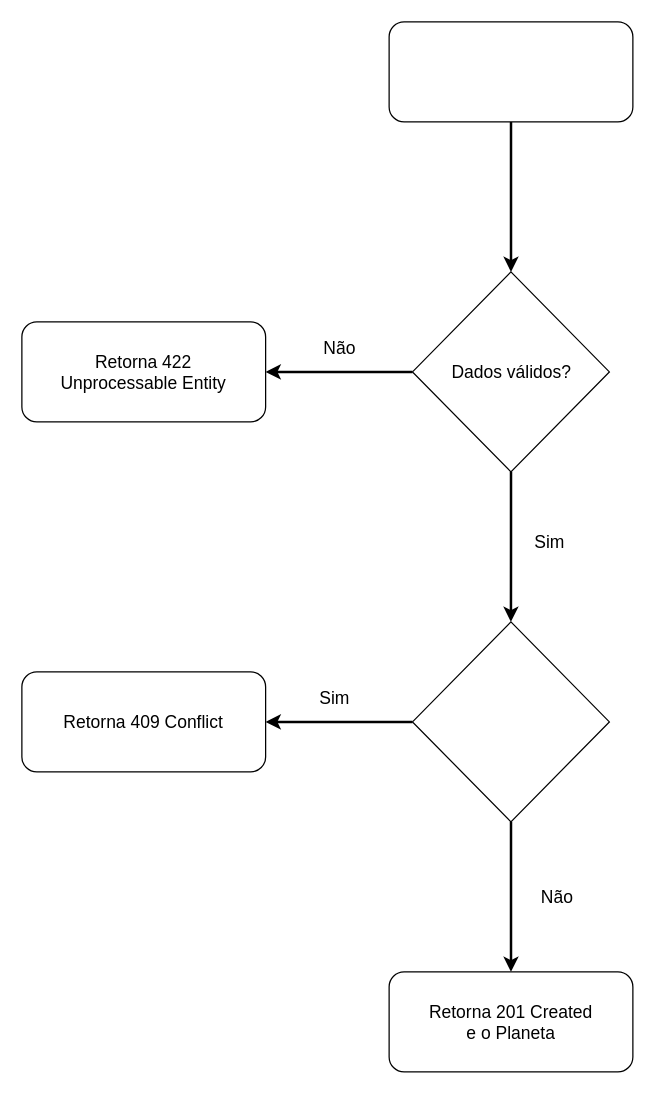
The diagram is 655 pixels wide and 1094 high, and some of its shapes have lost their labels. Each missing label, with the centre of its shape:
"Create" goes at point (510, 71).
"Planeta existe?" goes at point (510, 721).
